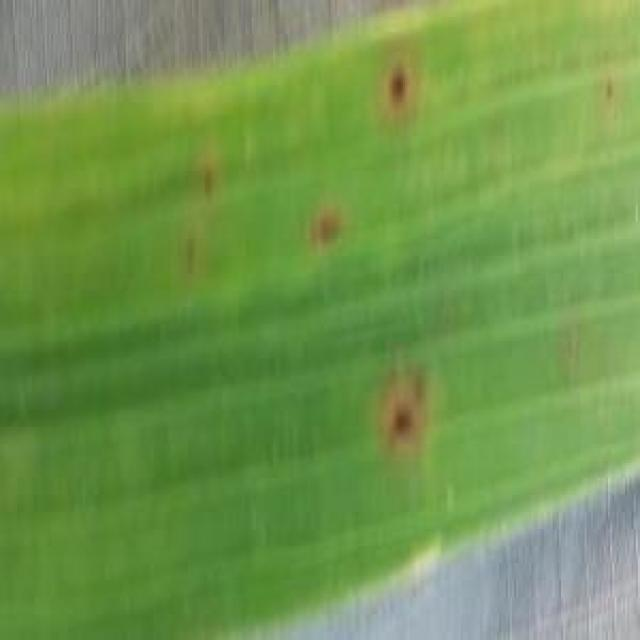brownspots: (371, 382, 431, 456), (307, 200, 354, 250), (370, 64, 424, 107), (192, 154, 224, 196), (593, 74, 621, 102)
